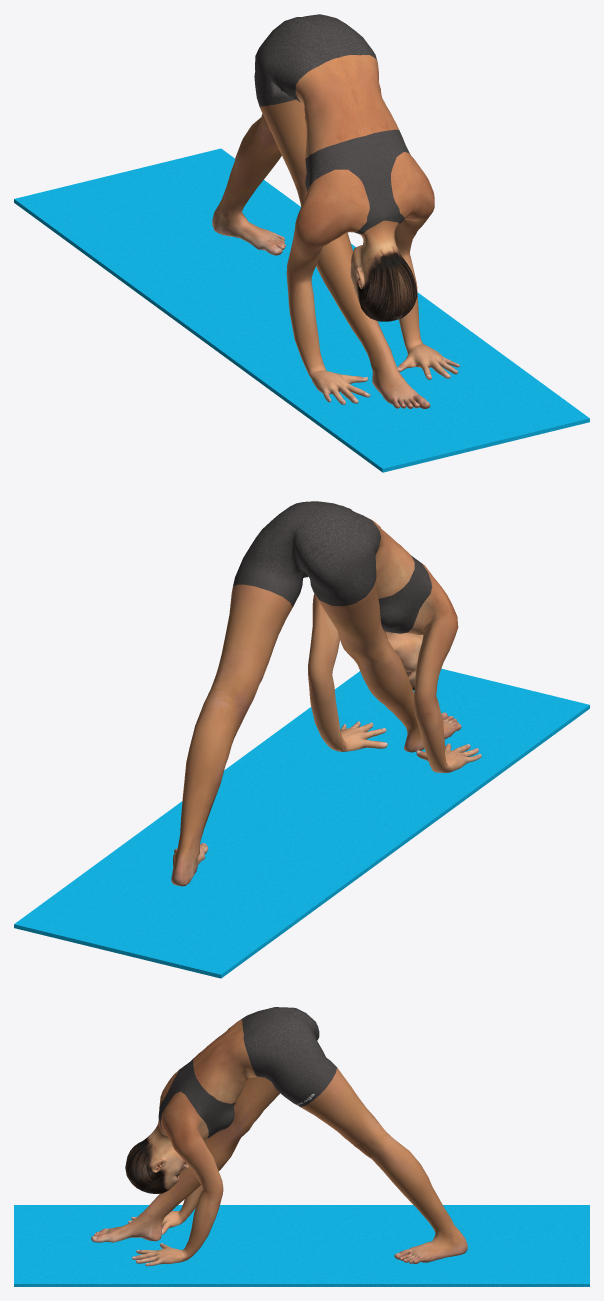
Rendered from parsvottanasana.glb.
3 renders of one model, top to bottom at view 1: azimuth 30°, elevation 25°; view 2: azimuth 150°, elevation 25°; view 3: azimuth 270°, elevation 25°, orthographic. The views are drawn at different scales.
Visible parts, largest first — view 1: Mat-one-piece_jpg-material, Lily_Texture2017-07-24Yellower_jpg-material; view 2: Mat-one-piece_jpg-material, Lily_Texture2017-07-24Yellower_jpg-material; view 3: Mat-one-piece_jpg-material, Lily_Texture2017-07-24Yellower_jpg-material.
Part boxes in pixels (left/top/right/bottom): Mat-one-piece_jpg-material: left=14, top=148, right=589, bottom=472; Lily_Texture2017-07-24Yellower_jpg-material: left=212, top=14, right=459, bottom=408; Mat-one-piece_jpg-material: left=14, top=668, right=589, bottom=978; Lily_Texture2017-07-24Yellower_jpg-material: left=171, top=501, right=481, bottom=886; Mat-one-piece_jpg-material: left=14, top=1205, right=589, bottom=1286; Lily_Texture2017-07-24Yellower_jpg-material: left=91, top=1007, right=467, bottom=1266.
Bounding box in the file's own units: 2 × 2.78 × 6.17.
Materials: 3 (2 with a texture image).
